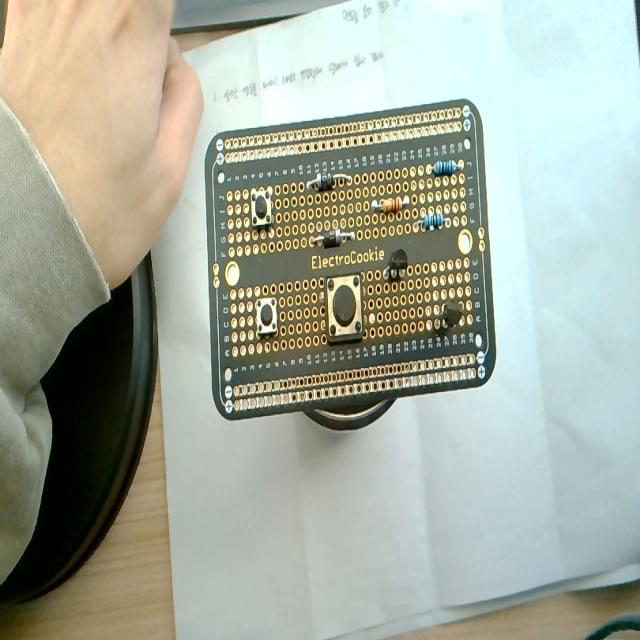diode: (306, 172, 348, 193), (312, 227, 354, 247)
resistor: (372, 197, 408, 215), (432, 159, 457, 176), (422, 212, 445, 230)
switch: (325, 273, 364, 343), (255, 297, 278, 337), (251, 188, 272, 228)
transistor: (434, 301, 464, 332), (382, 248, 409, 282)
